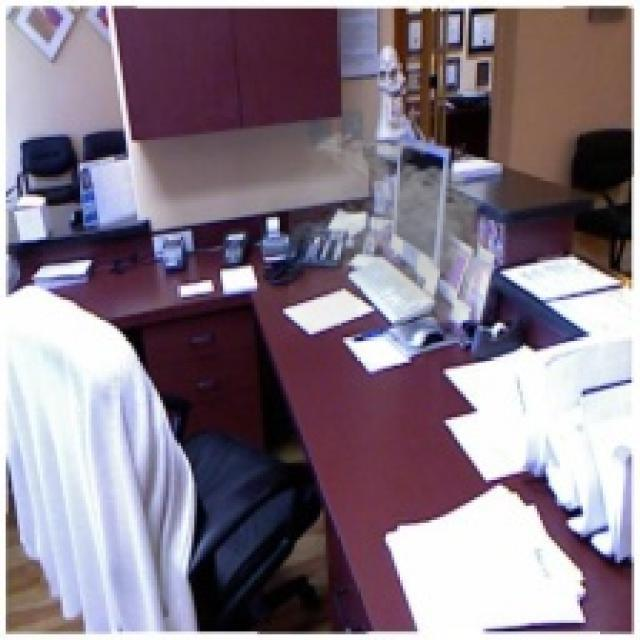Smoke: (288, 126, 514, 332)
